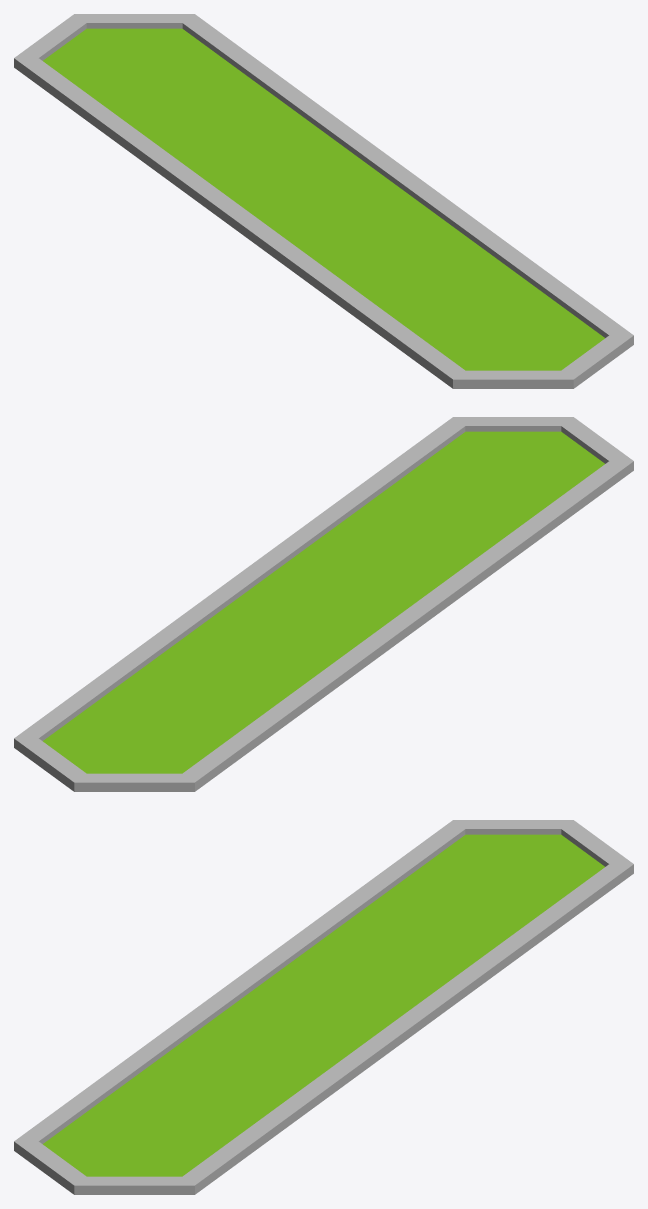
Rendered from grass_07.fbx.
The picture shows the model from 3 angles, top to bottom: view 1: azimuth 30°, elevation 25°; view 2: azimuth 150°, elevation 25°; view 3: azimuth 330°, elevation 25°; orthographic projection.
Parts seen in each view (by area): view 1: grass_07; view 2: grass_07; view 3: grass_07.
Boxes of the visible parts, x1,y1,x2,y2 form: grass_07: (14,14,633,388); grass_07: (14,417,633,791); grass_07: (14,820,633,1194).
Bounding box in the file's own units: 2.01 × 0.1 × 9.62.
